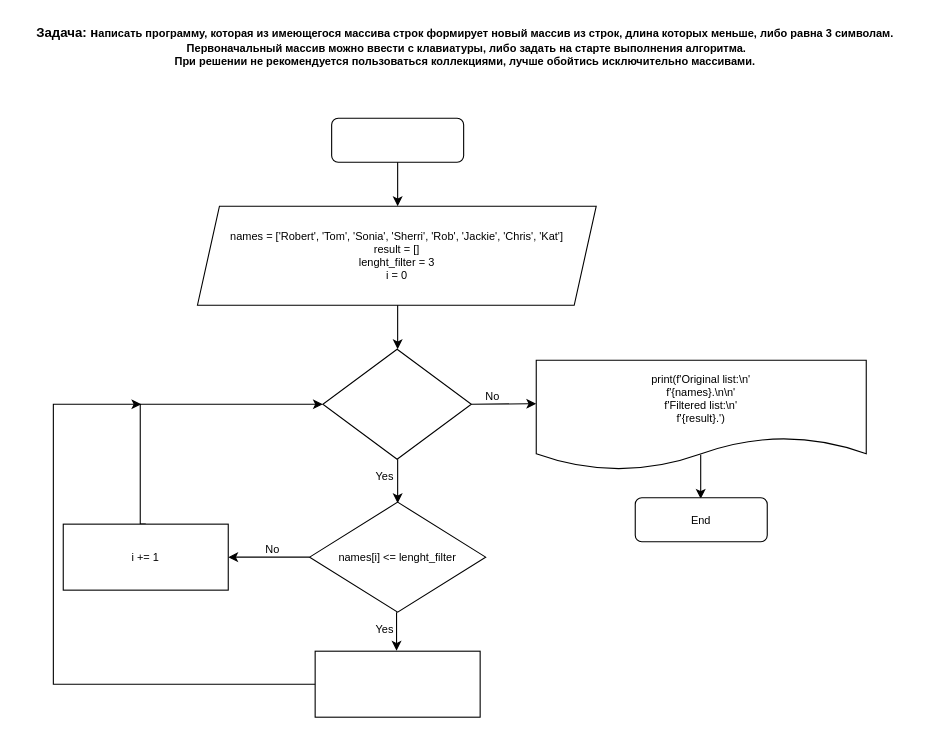
Image size: 928x736. Some labels were removed from this diagram. The shapes that lost their labels are listed below. From the top down, each one's box as (x1, y1, x2, y2) in pixels, then its label:
(331, 117, 464, 162): Start
(322, 348, 471, 459): i < len(names)
(314, 650, 480, 717): result.append(names[i]) i += 1
